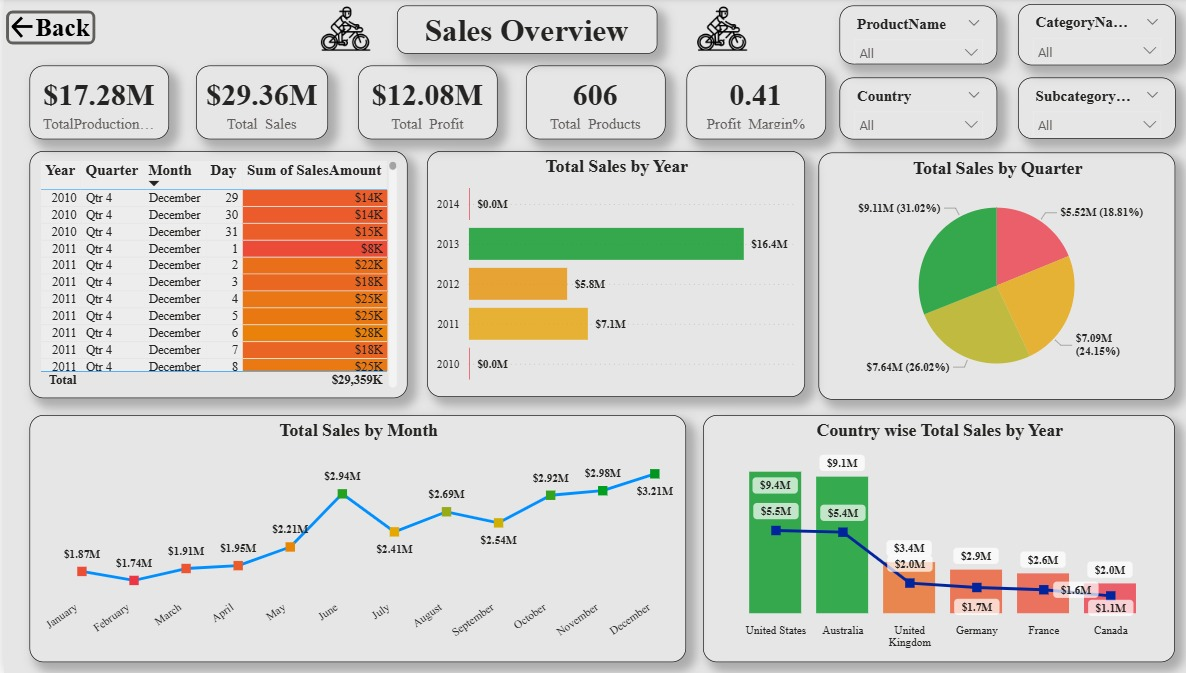

Layout of this report page (visuals, bound fields, positions):
{"tool":"powerbi","page":{"name":"KPI's Asked","canvas":[1280,720],"ordinal":8},"visuals":[{"type":"card","fields":{"Values":["Sales Data.Total_Sales"]},"box":[204.4,71.2,140.8,78.7],"z":0},{"type":"card","fields":{"Values":["Sales Data.TotalProductionCost"]},"box":[27.3,71.2,148.4,78.7],"z":1000},{"type":"card","fields":{"Values":["Sales Data.Total_Profit"]},"box":[377,71.2,148.4,78.7],"z":2000},{"type":"card","fields":{"Values":["Sales Data.Total_Products"]},"box":[555.7,71.2,148.4,78.7],"z":3000},{"type":"card","fields":{"Values":["Sales Data.Profit_Margin%"]},"box":[726.8,71.2,148.4,78.7],"z":4000},{"type":"tableEx","fields":{"Values":["Date.Date.Variation.Date Hierarchy.Year","Date.Date.Variation.Date Hierarchy.Quarter","Date.Date.Variation.Date Hierarchy.Month","Date.Date.Variation.Date Hierarchy.Day","Sum(Sales Data.SalesAmount)"]},"box":[27.3,163.5,402.8,263.5],"z":5000},{"type":"barChart","title":"Total Sales by Year","fields":{"Category":["Date.Date.Variation.Date Hierarchy.Year"],"Y":["Sum(Sales Data.SalesAmount)"]},"box":[451.2,163.5,402.8,262],"z":6000},{"type":"lineChart","title":"Total Sales by Month","fields":{"Category":["Date.Date.Variation.Date Hierarchy.Month","Date.Date.Variation.Date Hierarchy.Day"],"Y":["Sum(Sales Data.SalesAmount)"]},"box":[27.3,443.7,699.6,263.5],"z":7000},{"type":"pieChart","title":"Total Sales by Quarter","fields":{"Category":["Date.Date.Variation.Date Hierarchy.Quarter"],"Y":["Sum(Sales Data.SalesAmount)"]},"box":[867.6,165,380.1,263.5],"z":8000},{"type":"lineStackedColumnComboChart","title":"Country wise Total Sales by Year","fields":{"Y2":["Sum(Sales Data.TotalProductCost)"],"Category":["Territory.Country"],"Y":["Sum(Sales Data.SalesAmount)"]},"box":[745,443.7,502.7,263.5],"z":9000},{"type":"actionButton","box":[0,10.9,99.5,40.4],"z":10000},{"type":"slicer","fields":{"Values":["Category.CategoryName"]},"box":[1079.6,6.1,168.1,65.1],"z":11000},{"type":"slicer","fields":{"Values":["SubCategory.SubcategoryName"]},"box":[1079.6,84.8,168.1,65.1],"z":12000},{"type":"slicer","fields":{"Values":["Product.ProductName"]},"box":[890.1,7.6,168.2,62.4],"z":13000},{"type":"slicer","fields":{"Values":["Territory.Country"]},"box":[890.1,85,168.2,66.1],"z":14000},{"type":"shape","box":[417.9,7.6,277.1,51.5],"z":15000},{"type":"image","box":[327.1,6.1,72.7,53],"z":16000},{"type":"image","box":[726.8,6.1,75.7,53],"z":17000}]}

Visuals, with their boxes in screenshot pixels (x1, y1, x2, y2), scaled from the page's 1280x720 canvas onto the 1186x673 screenshot:
card - Sales Data.Total_Sales: [x1=189, y1=67, x2=320, y2=140]
card - Sales Data.TotalProductionCost: [x1=25, y1=67, x2=163, y2=140]
card - Sales Data.Total_Profit: [x1=349, y1=67, x2=487, y2=140]
card - Sales Data.Total_Products: [x1=515, y1=67, x2=652, y2=140]
card - Sales Data.Profit_Margin%: [x1=673, y1=67, x2=811, y2=140]
tableEx - Date.Date.Variation.Date Hierarchy.Year x Date.Date.Variation.Date Hierarchy.Quarter: [x1=25, y1=153, x2=399, y2=399]
"Total Sales by Year" barChart: [x1=418, y1=153, x2=791, y2=398]
"Total Sales by Month" lineChart: [x1=25, y1=415, x2=674, y2=661]
"Total Sales by Quarter" pieChart: [x1=804, y1=154, x2=1156, y2=401]
"Country wise Total Sales by Year" lineStackedColumnComboChart: [x1=690, y1=415, x2=1156, y2=661]
actionButton: [x1=0, y1=10, x2=92, y2=48]
slicer - Category.CategoryName: [x1=1000, y1=6, x2=1156, y2=67]
slicer - SubCategory.SubcategoryName: [x1=1000, y1=79, x2=1156, y2=140]
slicer - Product.ProductName: [x1=825, y1=7, x2=981, y2=65]
slicer - Territory.Country: [x1=825, y1=79, x2=981, y2=141]
shape: [x1=387, y1=7, x2=644, y2=55]
image: [x1=303, y1=6, x2=370, y2=55]
image: [x1=673, y1=6, x2=744, y2=55]
